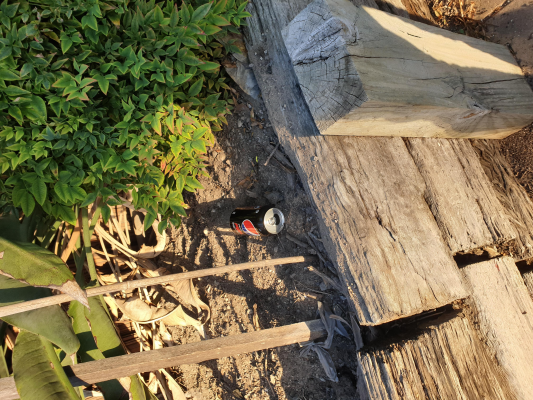Plastic Bottle: (230, 207, 285, 237)
